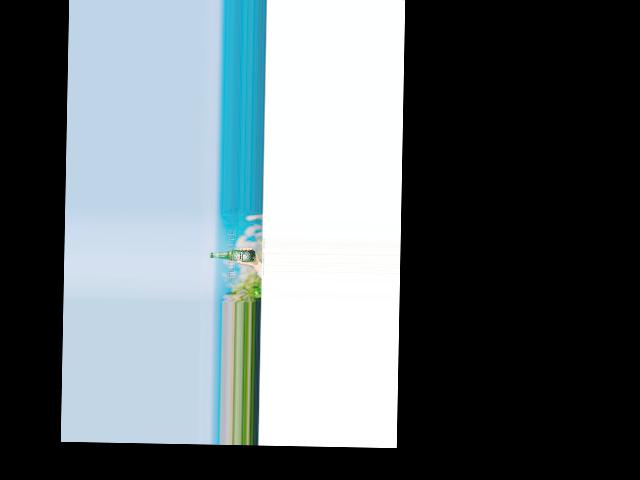beer: (210, 249, 255, 261)
